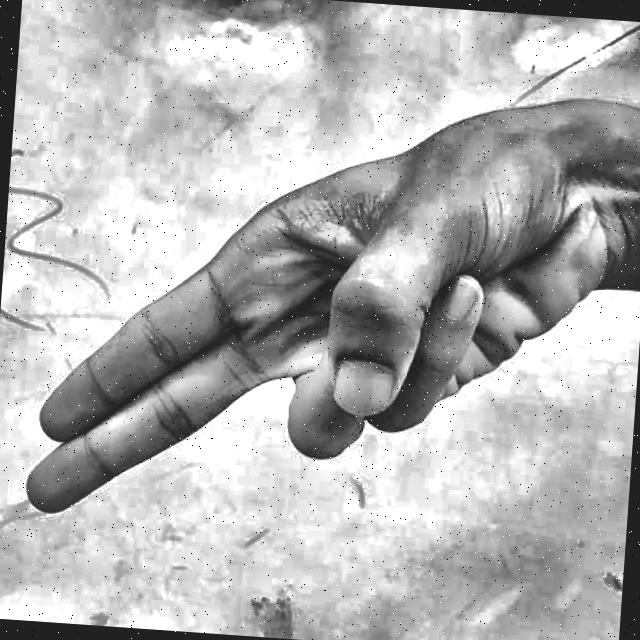Ha: (6, 59, 604, 600)
